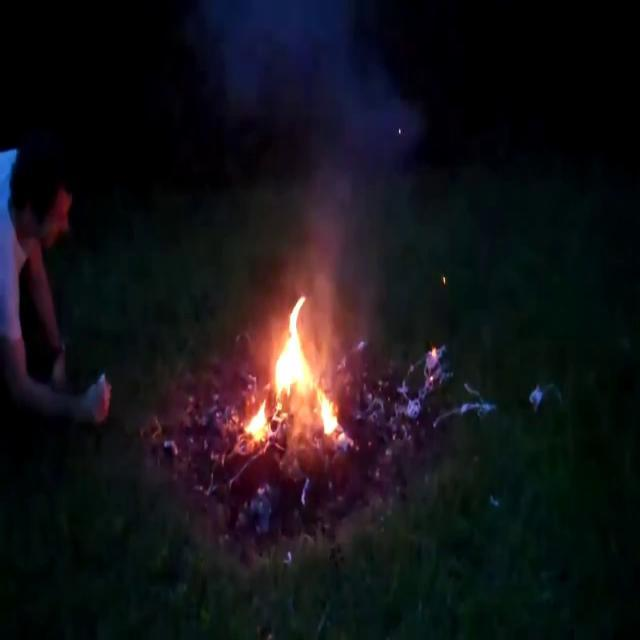Fire: (241, 290, 345, 450)
Smoke: (216, 2, 422, 305)
